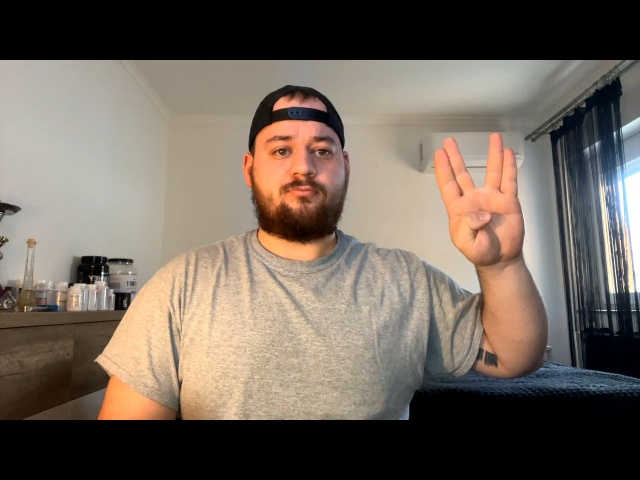LiveLong: (433, 132, 524, 264)
